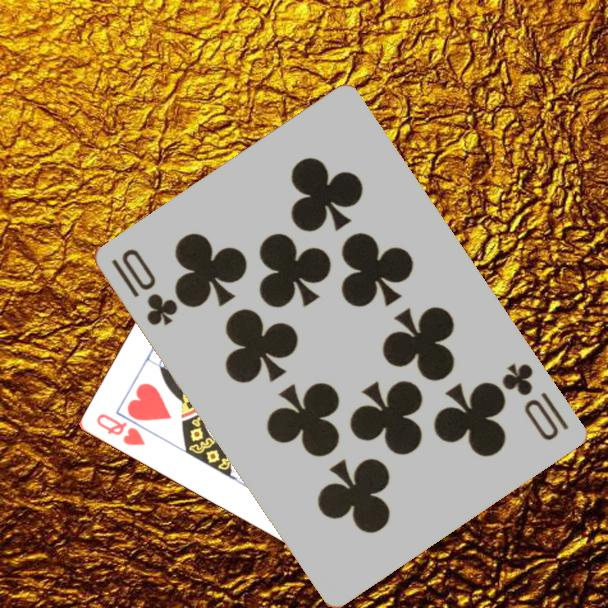c10: (106, 244, 180, 329), (497, 359, 571, 444)
h12: (92, 410, 148, 449)
